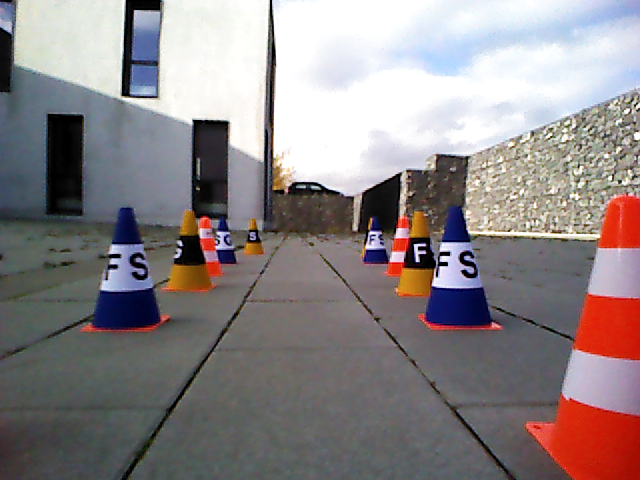bluecone: (95, 205, 161, 329), (429, 205, 490, 325), (366, 217, 388, 262), (218, 216, 238, 263)
orangeconesmall: (552, 194, 638, 480), (384, 216, 406, 275), (207, 216, 219, 277)
yellowcone: (169, 208, 210, 290), (400, 211, 434, 294), (243, 218, 265, 256)
